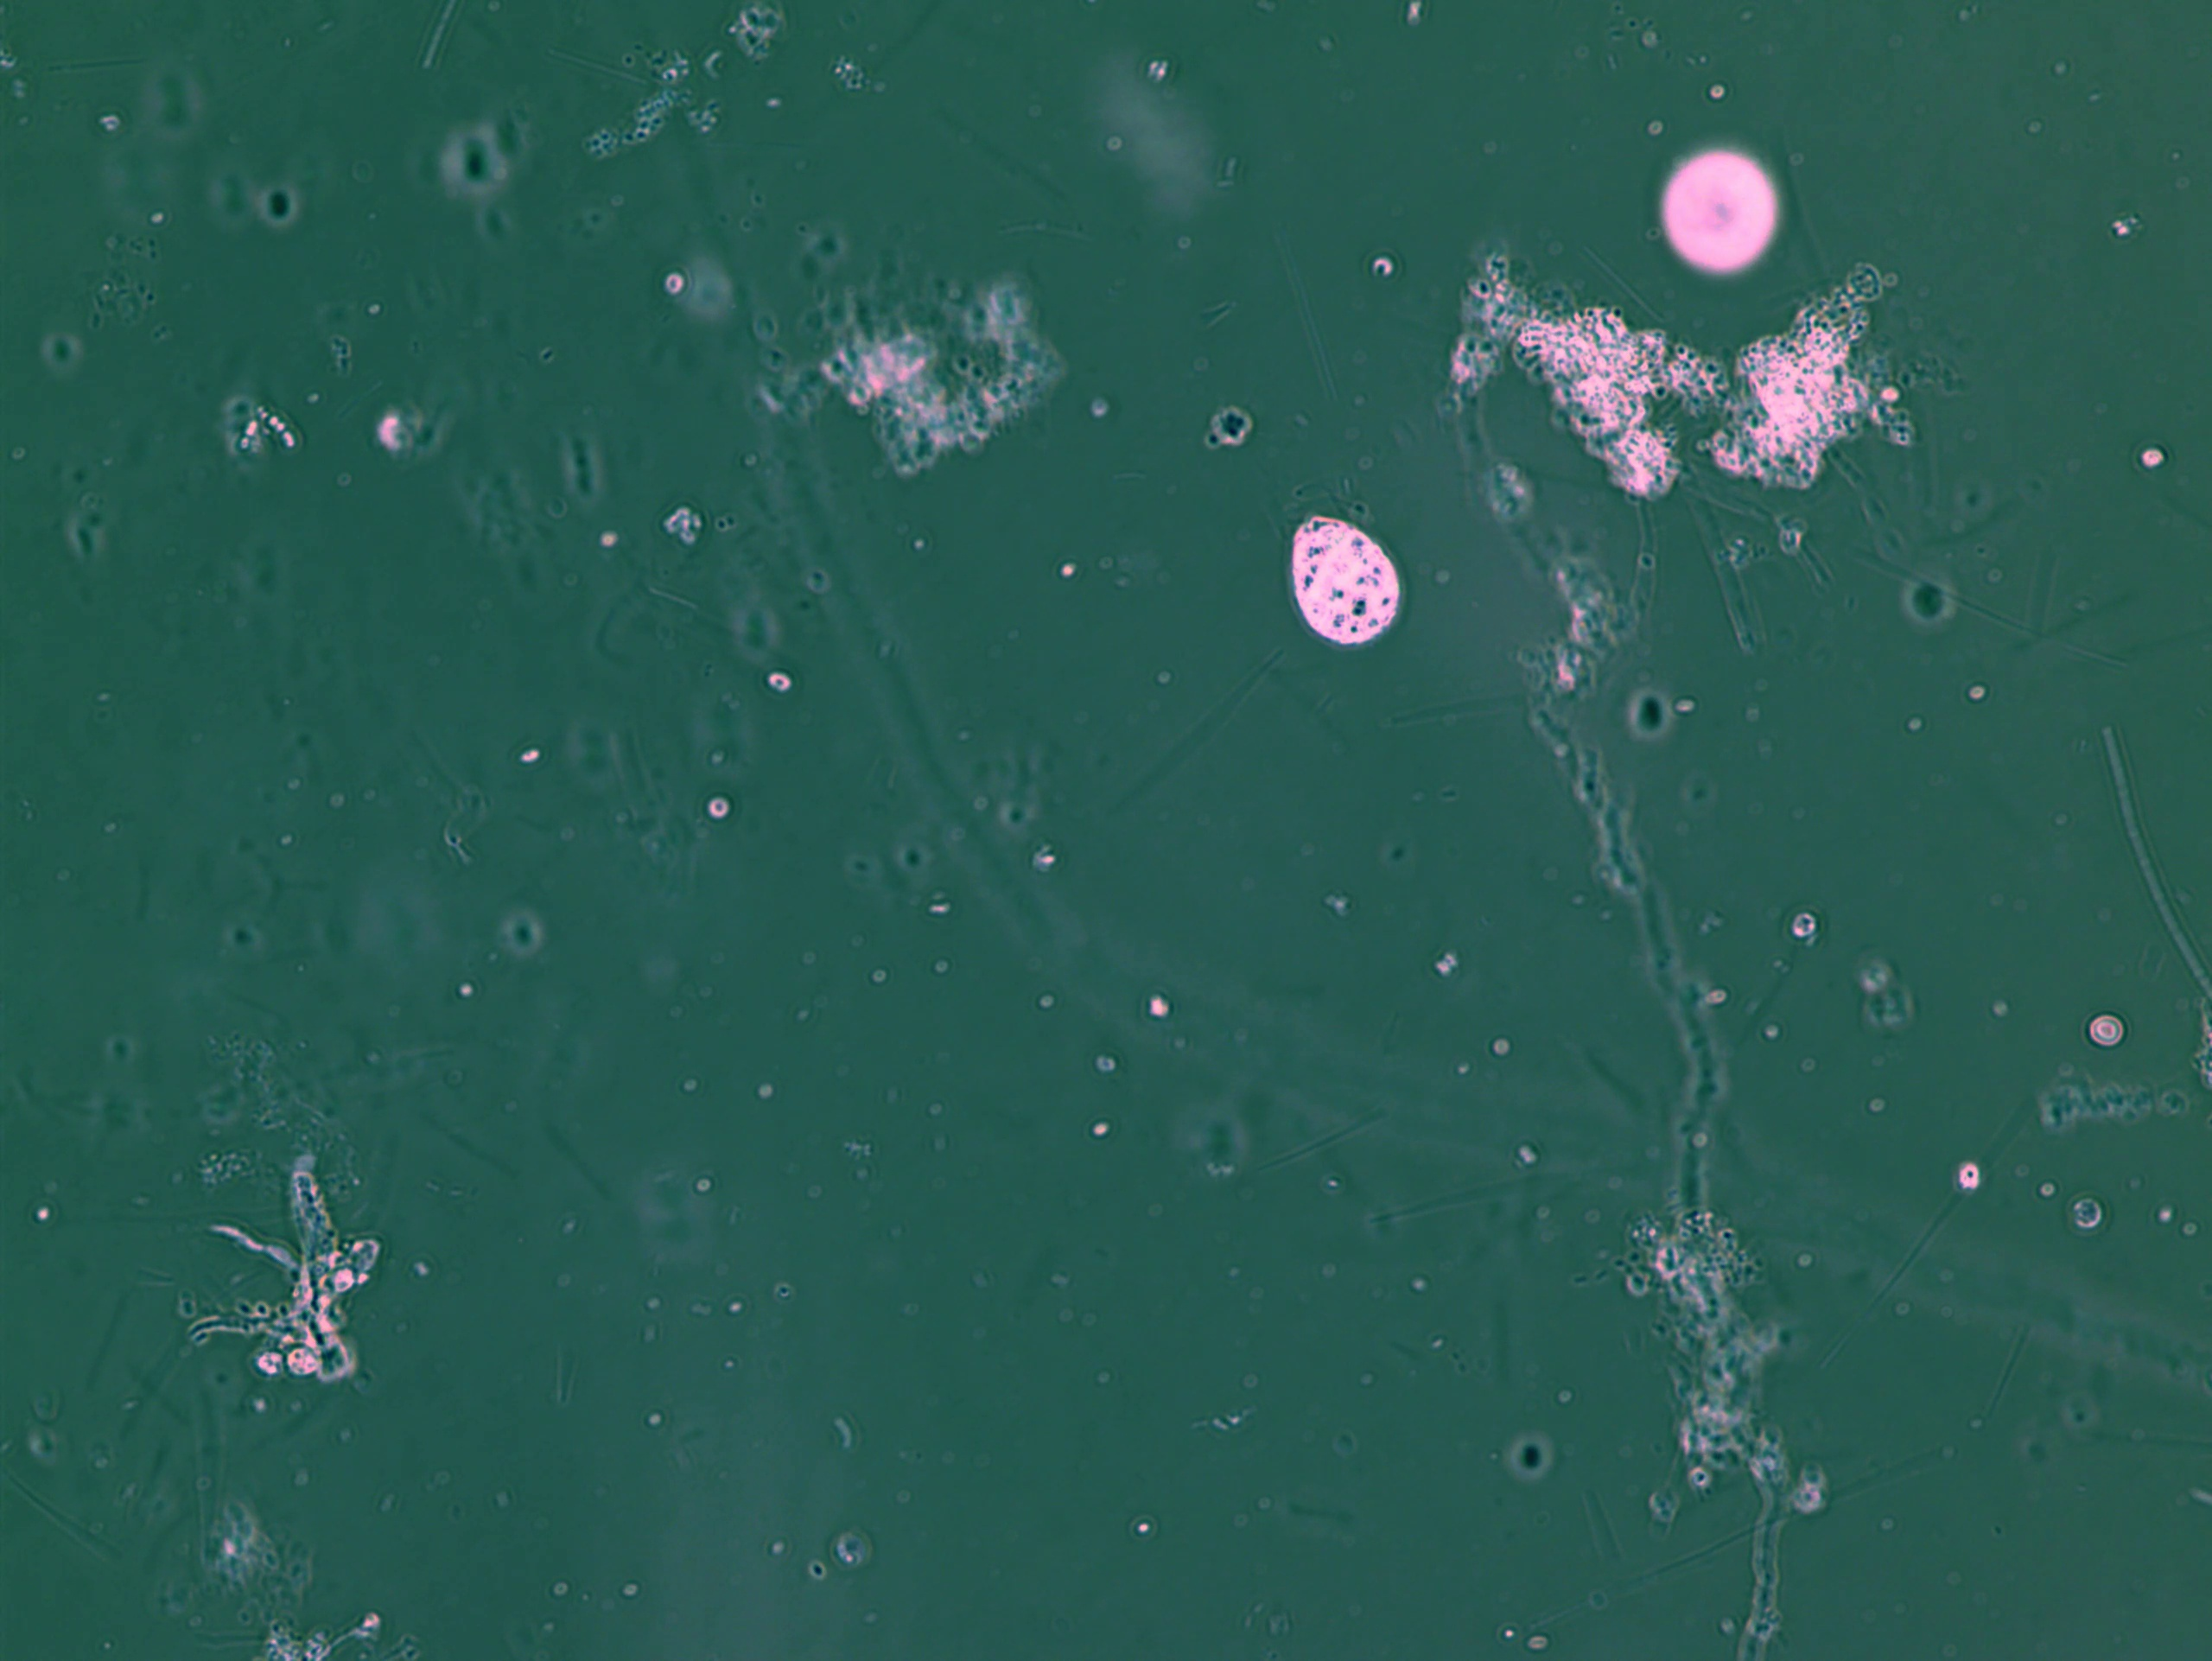depth:0: (1265, 489, 1439, 663)
